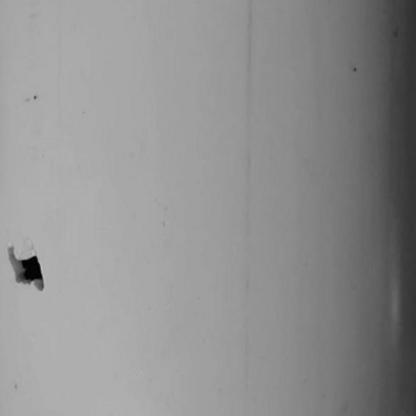kongdong: (1, 241, 54, 301)
